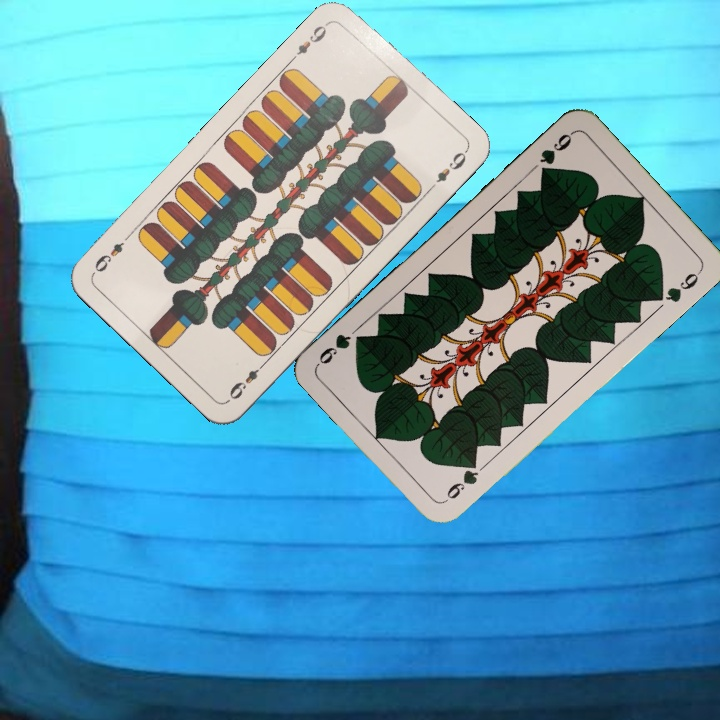E9: (287, 17, 333, 64), (225, 357, 270, 403)
G9: (535, 127, 576, 179), (440, 455, 481, 505)
